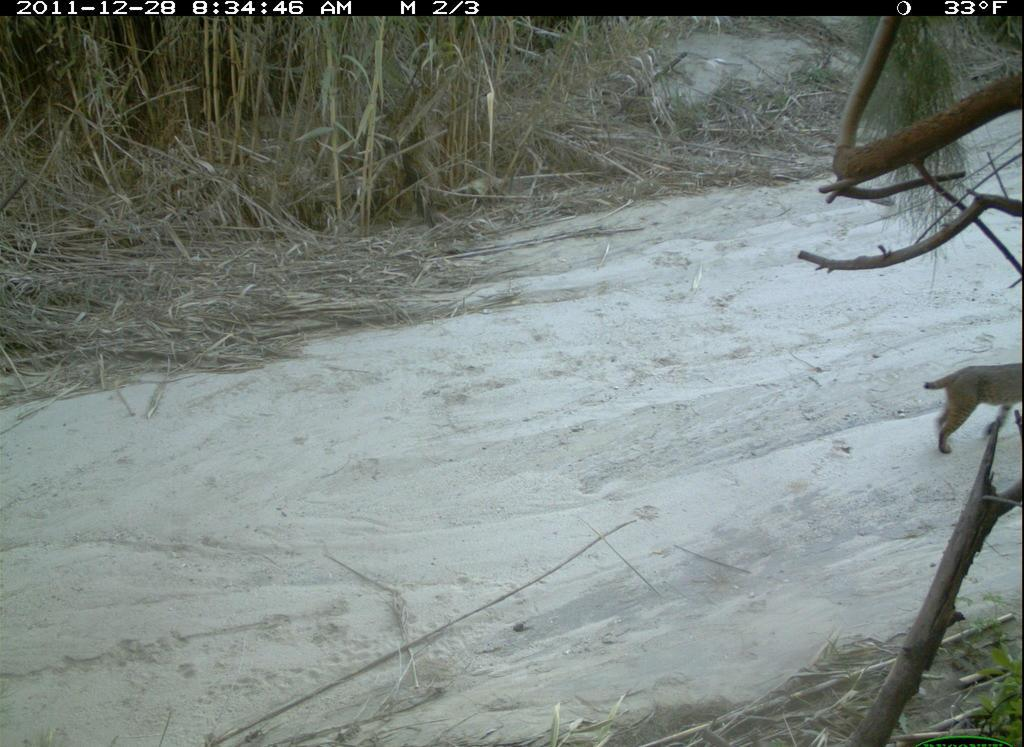bobcat: (921, 354, 1023, 460)
